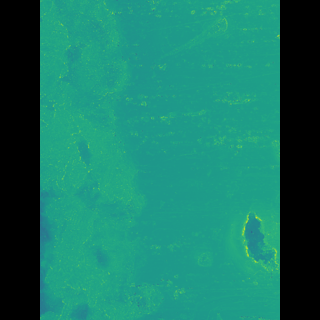Loch: (69, 0, 162, 320), (214, 197, 249, 282)
